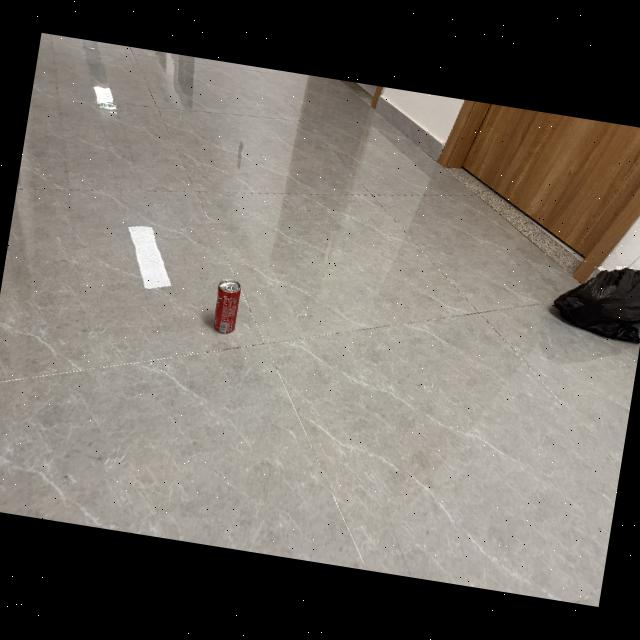Cola: (207, 276, 248, 341)
